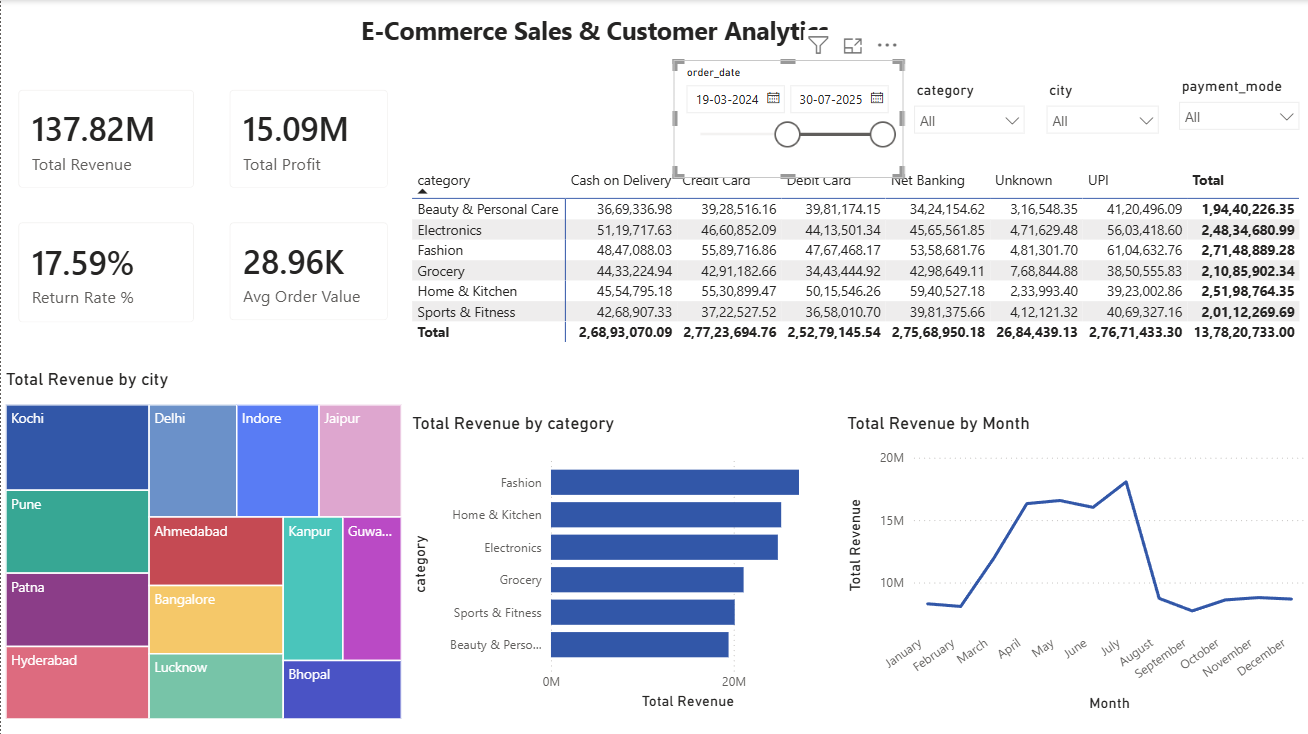

Layout of this report page (visuals, bound fields, positions):
{"tool":"powerbi","page":{"name":"Page 1","canvas":[1280,720],"ordinal":0},"visuals":[{"type":"cardVisual","fields":{"Data":["analytics_project orders.Total Revenue"]},"box":[0,71,206.9,131],"z":0},{"type":"cardVisual","fields":{"Data":["analytics_project orders.Total Profit"]},"box":[207.3,70.8,189.6,130.2],"z":1},{"type":"cardVisual","fields":{"Data":["analytics_project orders.Return Rate %"]},"box":[0,200.8,206.9,132.2],"z":2},{"type":"cardVisual","fields":{"Data":["analytics_project orders.Average Order Value"]},"box":[207.3,200.9,189.6,130.2],"z":3},{"type":"textbox","box":[347.3,8.6,475.2,51.8],"z":4},{"type":"lineChart","fields":{"Category":["analytics_project orders.order_date.Variation.Date Hierarchy.Month"],"Y":["analytics_project orders.Total Revenue"]},"box":[822.7,403,457.6,297],"z":5},{"type":"clusteredBarChart","fields":{"Category":["analytics_project products.category"],"Y":["analytics_project orders.Total Revenue"]},"box":[396.8,403.2,425.9,295.7],"z":6},{"type":"treemap","fields":{"Group":["analytics_project customers.city"],"Values":["analytics_project orders.Total Revenue"]},"box":[0,360.2,396.8,347.6],"z":7},{"type":"pivotTable","fields":{"Columns":["analytics_project orders.payment_mode"],"Rows":["analytics_project products.category"],"Values":["analytics_project orders.Total Revenue"]},"box":[396.8,160.5,883.4,236.3],"z":8},{"type":"slicer","fields":{"Values":["analytics_project orders.order_date"]},"box":[657.6,59.1,225.8,115.2],"z":9},{"type":"slicer","fields":{"Values":["analytics_project products.category"]},"box":[883.3,74.2,128.8,89.4],"z":10},{"type":"slicer","fields":{"Values":["analytics_project orders.city"]},"box":[1012.1,74.2,130.3,89.4],"z":11},{"type":"slicer","fields":{"Values":["analytics_project orders.payment_mode"]},"box":[1142.4,71.2,137.9,89.4],"z":12}]}

Visuals, with their boxes in screenshot pixels (x1, y1, x2, y2), scaled from the page's 1280x720 canvas onto the 1308x734 screenshot:
cardVisual - analytics_project orders.Total Revenue: <bbox>0, 72, 211, 206</bbox>
cardVisual - analytics_project orders.Total Profit: <bbox>212, 72, 406, 205</bbox>
cardVisual - analytics_project orders.Return Rate %: <bbox>0, 205, 211, 339</bbox>
cardVisual - analytics_project orders.Average Order Value: <bbox>212, 205, 406, 338</bbox>
textbox: <bbox>355, 9, 840, 62</bbox>
lineChart - analytics_project orders.order_date.Variation.Date Hierarchy.Month x analytics_project orders.Total Revenue: <bbox>841, 411, 1307, 714</bbox>
clusteredBarChart - analytics_project products.category x analytics_project orders.Total Revenue: <bbox>405, 411, 841, 712</bbox>
treemap - analytics_project customers.city x analytics_project orders.Total Revenue: <bbox>0, 367, 405, 722</bbox>
pivotTable - analytics_project orders.payment_mode x analytics_project products.category: <bbox>405, 164, 1307, 405</bbox>
slicer - analytics_project orders.order_date: <bbox>672, 60, 903, 178</bbox>
slicer - analytics_project products.category: <bbox>903, 76, 1034, 167</bbox>
slicer - analytics_project orders.city: <bbox>1034, 76, 1167, 167</bbox>
slicer - analytics_project orders.payment_mode: <bbox>1167, 73, 1307, 164</bbox>
